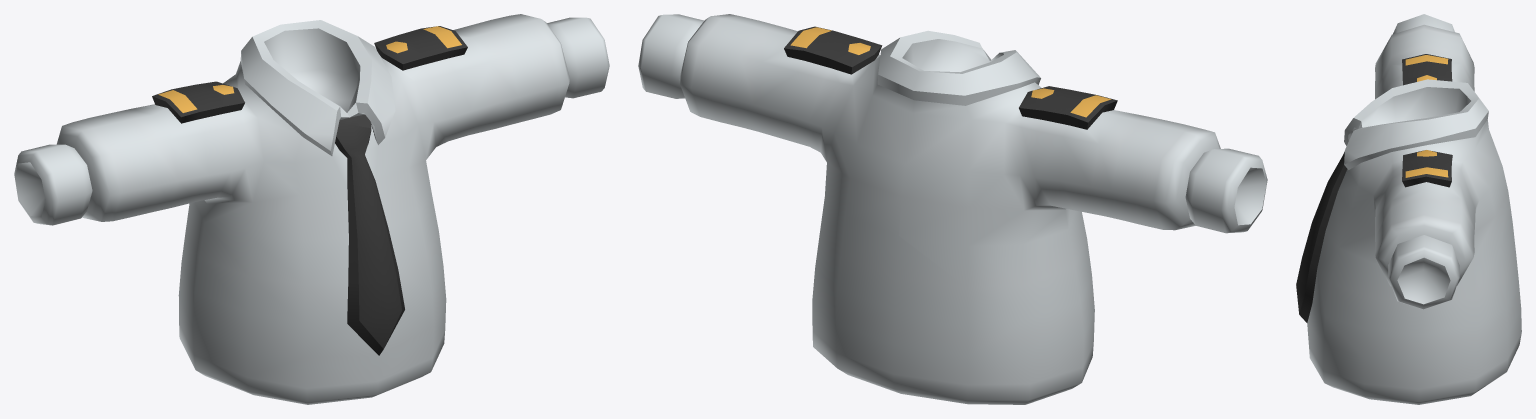
File: Top_42.fbx
3 renders of one model, left to right at view 1: azimuth 30°, elevation 25°; view 2: azimuth 150°, elevation 25°; view 3: azimuth 270°, elevation 25°, orthographic. The views are drawn at different scales.
Parts seen in each view (by area): view 1: Top_42; view 2: Top_42; view 3: Top_42.
Part boxes in pixels (x1=…): Top_42: x1=14, y1=14, x2=609, y2=404; Top_42: x1=638, y1=14, x2=1267, y2=404; Top_42: x1=1296, y1=14, x2=1521, y2=404.
Bounding box in the file's own units: 95.83 × 49.88 × 38.28.
